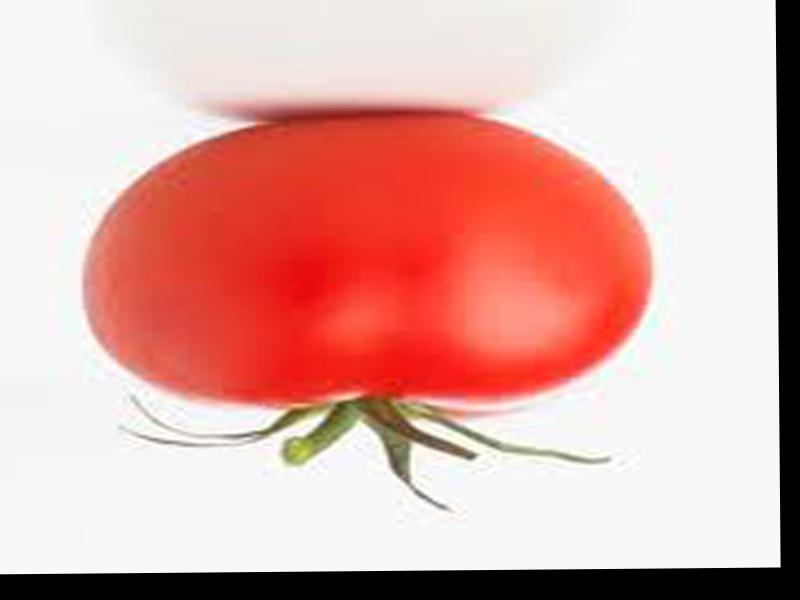Tomato: (85, 112, 653, 411)
